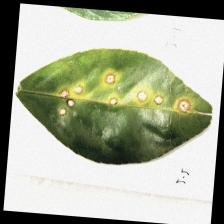canker: (53, 71, 189, 133)
